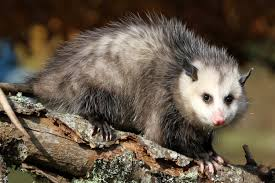opossum: (0, 13, 253, 157)
